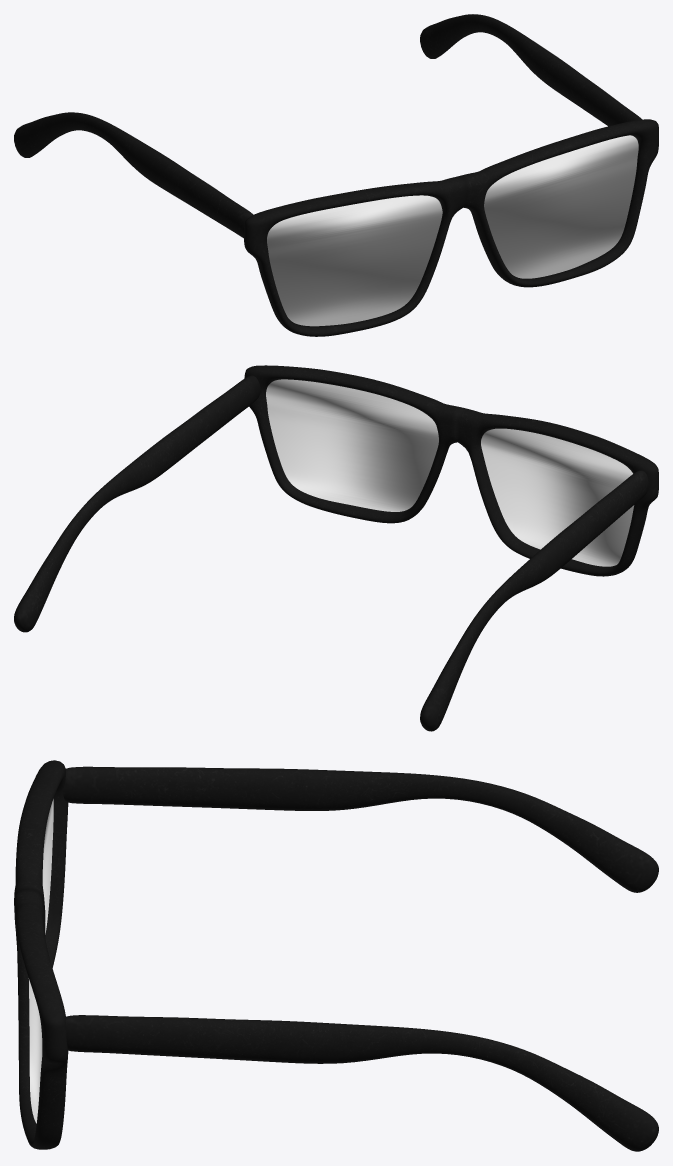
Rendered from glasses-03.glb.
3 views of the same model, one above another, from view 1: azimuth 30°, elevation 25°; view 2: azimuth 150°, elevation 25°; view 3: azimuth 270°, elevation 25° (orthographic). The views are drawn at different scales.
Visible parts, largest first — view 1: Base_0, Temples_1; view 2: Base_0, Temples_1; view 3: Temples_1, Base_0.
Part boxes in pixels (x1,y1,x2,y2): Base_0: (244, 119, 658, 336); Temples_1: (14, 14, 642, 238); Base_0: (244, 365, 658, 576); Temples_1: (14, 375, 648, 731); Temples_1: (63, 766, 658, 1151); Base_0: (14, 760, 68, 1149).
Size of the model in its own units: 3.71 by 1.15 by 3.75.
2 materials, 1 textured.
